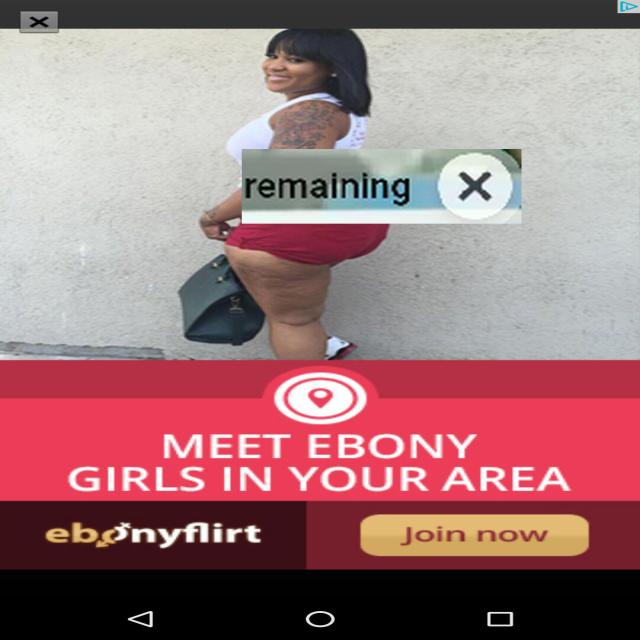misdirection: (242, 149, 521, 224)
